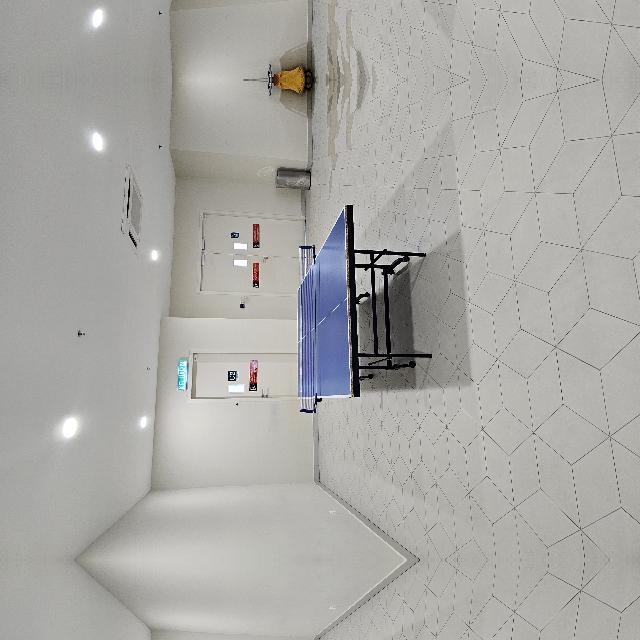door: (264, 279, 348, 387), (158, 270, 208, 378)
obstacle: (144, 375, 356, 513), (144, 607, 356, 640), (368, 353, 392, 393)
